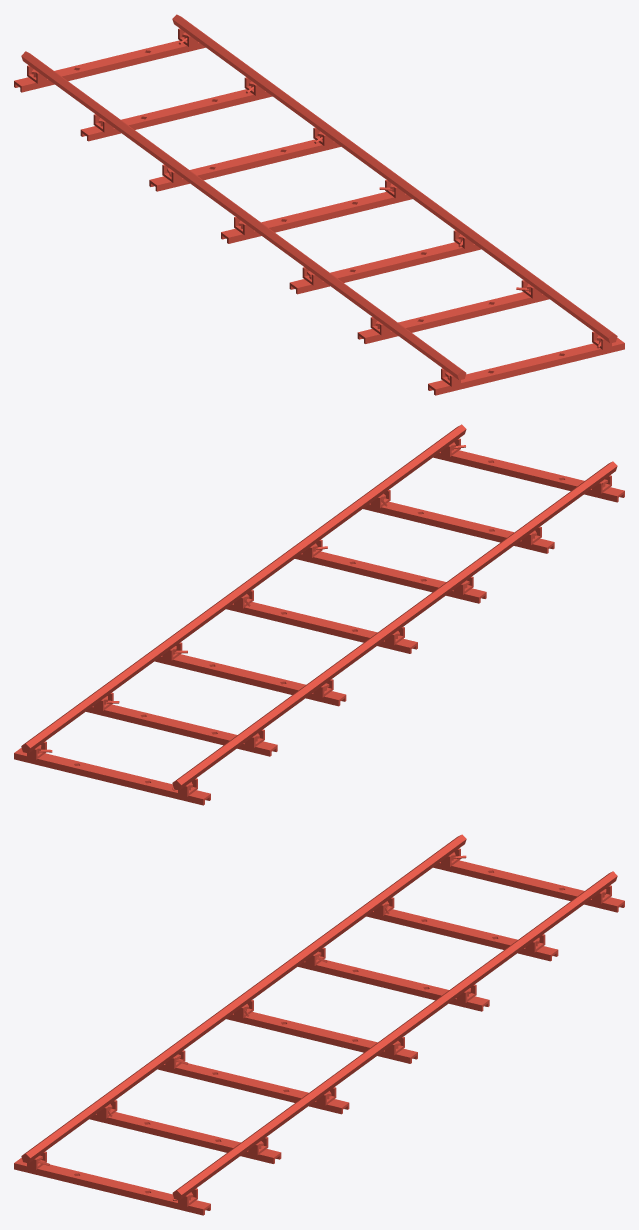
The model's file is SM_Rail_Dolly_3m.fbx.
The picture shows the model from 3 angles, top to bottom: view 1: azimuth 30°, elevation 25°; view 2: azimuth 150°, elevation 25°; view 3: azimuth 330°, elevation 25°; orthographic projection.
Parts seen in each view (by area): view 1: SM_Rail_Dolly_3m; view 2: SM_Rail_Dolly_3m; view 3: SM_Rail_Dolly_3m.
Part boxes in pixels (x1,y1,x2,y2): SM_Rail_Dolly_3m: (14, 14, 624, 395); SM_Rail_Dolly_3m: (14, 424, 624, 805); SM_Rail_Dolly_3m: (14, 834, 624, 1215).
Bounding box in the file's own units: 3 × 0.7521 × 0.0977.
